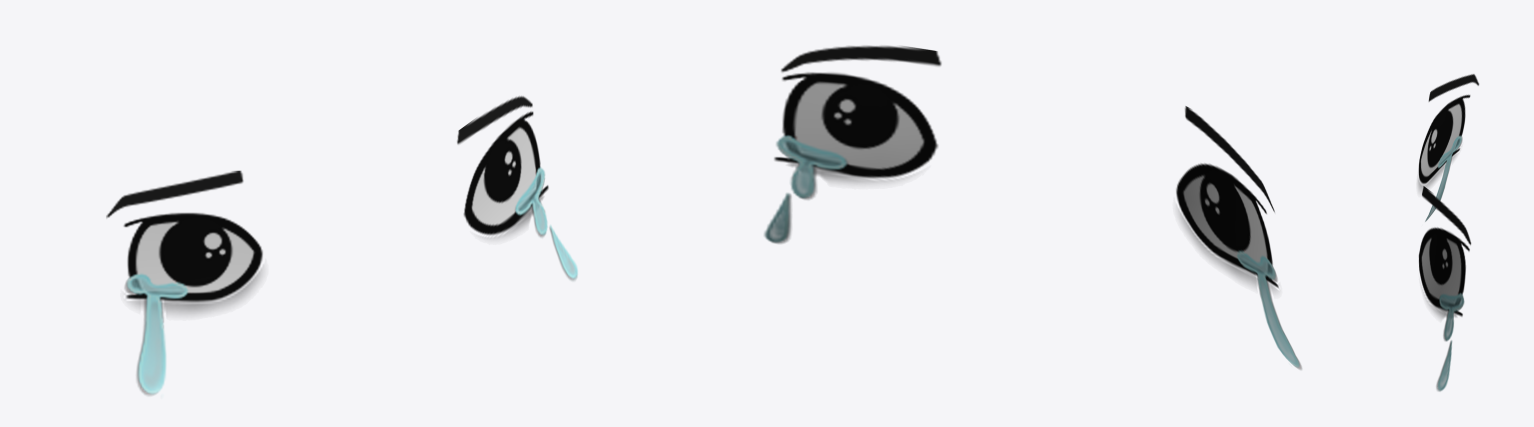
Rendered from Tears.gltf.
The picture shows the model from 3 angles, left to right: view 1: azimuth 30°, elevation 25°; view 2: azimuth 150°, elevation 25°; view 3: azimuth 270°, elevation 25°; orthographic projection. The views are drawn at different scales.
Parts seen in each view (by area): view 1: eyes7; view 2: eyes7; view 3: eyes7.
Boxes of the visible parts, bbox=[...] form: eyes7: bbox=[106, 96, 577, 395]; eyes7: bbox=[764, 45, 1301, 369]; eyes7: bbox=[1418, 74, 1479, 391].
Bounding box in the file's own units: 6.44 × 2.52 × 1.45.
Materials: 1 (1 with a texture image).
